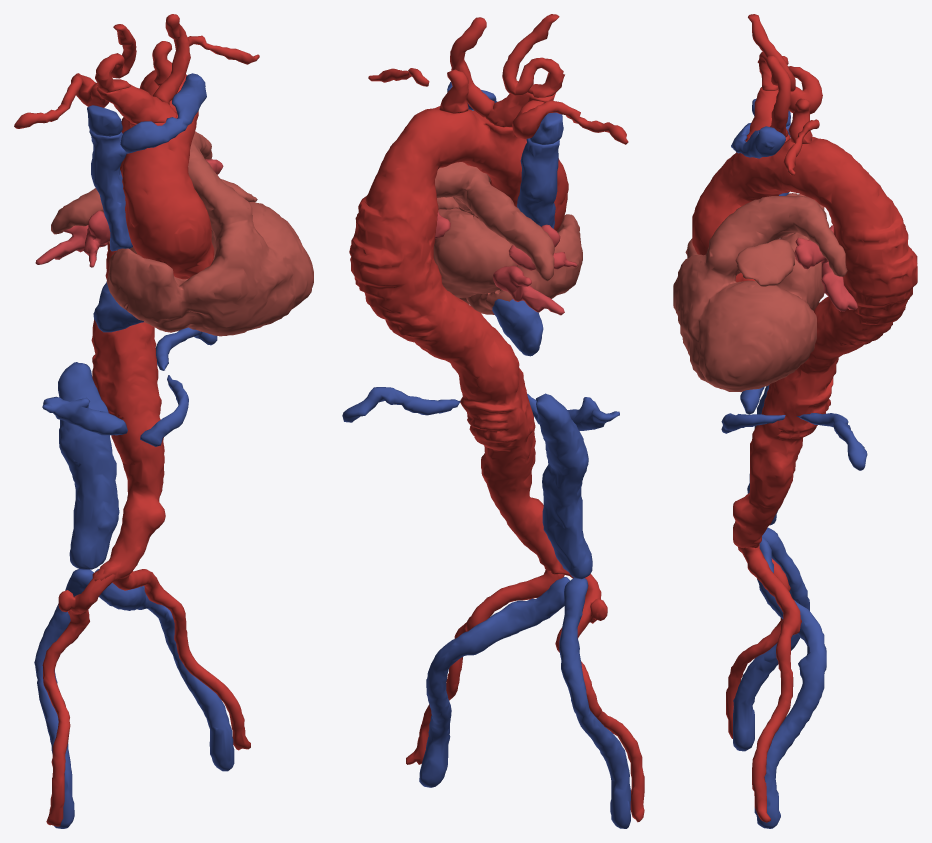
Rendered from tsd_s0196_older_adult_female.cardiovascular.LOD4.glb.
3 views of the same model, side by side, from view 1: azimuth 30°, elevation 25°; view 2: azimuth 150°, elevation 25°; view 3: azimuth 270°, elevation 25° (orthographic). The views are drawn at different scales.
Visible parts, largest first — view 1: TSD_S0196.OLDER_ADULT.FEMALE.CARDIOVASCULAR.AORTA, TSD_S0196.OLDER_ADULT.FEMALE.CARDIOVASCULAR.HEART_ALL_CHAMBE, TSD_S0196.OLDER_ADULT.FEMALE.CARDIOVASCULAR.INFERIOR_VENA_CA, TSD_S0196.OLDER_ADULT.FEMALE.CARDIOVASCULAR.BRACHIOCEPHALIC_ (×3), TSD_S0196.OLDER_ADULT.FEMALE.CARDIOVASCULAR.ILIAC_ARTERY.R, TSD_S0196.OLDER_ADULT.FEMALE.CARDIOVASCULAR.ILIAC_VEIN.L, TSD_S0196.OLDER_ADULT.FEMALE.CARDIOVASCULAR.PORTAL_VEIN_AND_, TSD_S0196.OLDER_ADULT.FEMALE.CARDIOVASCULAR.ILIAC_ARTERY.L, TSD_S0196.OLDER_ADULT.FEMALE.CARDIOVASCULAR.COMMON_CAROTID_A (×2), TSD_S0196.OLDER_ADULT.FEMALE.CARDIOVASCULAR.SUPERIOR_VENA_CA, TSD_S0196.OLDER_ADULT.FEMALE.CARDIOVASCULAR.SUBCLAVIAN_ARTER (×2), TSD_S0196.OLDER_ADULT.FEMALE.CARDIOVASCULAR.ILIAC_VEIN.R (+1 smaller); view 2: TSD_S0196.OLDER_ADULT.FEMALE.CARDIOVASCULAR.AORTA, TSD_S0196.OLDER_ADULT.FEMALE.CARDIOVASCULAR.HEART_ALL_CHAMBE, TSD_S0196.OLDER_ADULT.FEMALE.CARDIOVASCULAR.INFERIOR_VENA_CA, TSD_S0196.OLDER_ADULT.FEMALE.CARDIOVASCULAR.ILIAC_VEIN.L, TSD_S0196.OLDER_ADULT.FEMALE.CARDIOVASCULAR.ILIAC_VEIN.R, TSD_S0196.OLDER_ADULT.FEMALE.CARDIOVASCULAR.COMMON_CAROTID_A (×2), TSD_S0196.OLDER_ADULT.FEMALE.CARDIOVASCULAR.SUBCLAVIAN_ARTER (×2), TSD_S0196.OLDER_ADULT.FEMALE.CARDIOVASCULAR.ILIAC_ARTERY.R, TSD_S0196.OLDER_ADULT.FEMALE.CARDIOVASCULAR.SUPERIOR_VENA_CA, TSD_S0196.OLDER_ADULT.FEMALE.CARDIOVASCULAR.PORTAL_VEIN_AND_, TSD_S0196.OLDER_ADULT.FEMALE.CARDIOVASCULAR.ILIAC_ARTERY.L, TSD_S0196.OLDER_ADULT.FEMALE.CARDIOVASCULAR.PULMONARY_VEINS_ (+1 smaller); view 3: TSD_S0196.OLDER_ADULT.FEMALE.CARDIOVASCULAR.AORTA, TSD_S0196.OLDER_ADULT.FEMALE.CARDIOVASCULAR.HEART_ALL_CHAMBE, TSD_S0196.OLDER_ADULT.FEMALE.CARDIOVASCULAR.ILIAC_VEIN.L, TSD_S0196.OLDER_ADULT.FEMALE.CARDIOVASCULAR.ILIAC_ARTERY.L, TSD_S0196.OLDER_ADULT.FEMALE.CARDIOVASCULAR.ILIAC_VEIN.R, TSD_S0196.OLDER_ADULT.FEMALE.CARDIOVASCULAR.PORTAL_VEIN_AND_, TSD_S0196.OLDER_ADULT.FEMALE.CARDIOVASCULAR.COMMON_CAROTID_A (×2), TSD_S0196.OLDER_ADULT.FEMALE.CARDIOVASCULAR.SUBCLAVIAN_ARTER (×2), TSD_S0196.OLDER_ADULT.FEMALE.CARDIOVASCULAR.BRACHIOCEPHALIC_ (×2), TSD_S0196.OLDER_ADULT.FEMALE.CARDIOVASCULAR.LEFT_ATRIAL_APPE, TSD_S0196.OLDER_ADULT.FEMALE.CARDIOVASCULAR.PULMONARY_VEINS_, TSD_S0196.OLDER_ADULT.FEMALE.CARDIOVASCULAR.ILIAC_ARTERY.R.
Boxes of the visible parts, x1,y1,x2,y2 form: TSD_S0196.OLDER_ADULT.FEMALE.CARDIOVASCULAR.AORTA: [91, 70, 214, 581]; TSD_S0196.OLDER_ADULT.FEMALE.CARDIOVASCULAR.HEART_ALL_CHAMBE: [51, 131, 313, 336]; TSD_S0196.OLDER_ADULT.FEMALE.CARDIOVASCULAR.INFERIOR_VENA_CA: [58, 282, 143, 569]; TSD_S0196.OLDER_ADULT.FEMALE.CARDIOVASCULAR.BRACHIOCEPHALIC_ (×3): [87, 73, 206, 153]; TSD_S0196.OLDER_ADULT.FEMALE.CARDIOVASCULAR.ILIAC_ARTERY.R: [42, 568, 115, 826]; TSD_S0196.OLDER_ADULT.FEMALE.CARDIOVASCULAR.ILIAC_VEIN.L: [95, 569, 234, 771]; TSD_S0196.OLDER_ADULT.FEMALE.CARDIOVASCULAR.PORTAL_VEIN_AND_: [42, 327, 217, 446]; TSD_S0196.OLDER_ADULT.FEMALE.CARDIOVASCULAR.ILIAC_ARTERY.L: [112, 569, 250, 750]; TSD_S0196.OLDER_ADULT.FEMALE.CARDIOVASCULAR.COMMON_CAROTID_A (×2): [95, 14, 190, 104]; TSD_S0196.OLDER_ADULT.FEMALE.CARDIOVASCULAR.SUPERIOR_VENA_CA: [89, 130, 132, 251]; TSD_S0196.OLDER_ADULT.FEMALE.CARDIOVASCULAR.SUBCLAVIAN_ARTER (×2): [14, 35, 259, 128]; TSD_S0196.OLDER_ADULT.FEMALE.CARDIOVASCULAR.ILIAC_VEIN.R: [34, 569, 93, 828]; TSD_S0196.OLDER_ADULT.FEMALE.CARDIOVASCULAR.AORTA: [349, 106, 571, 576]; TSD_S0196.OLDER_ADULT.FEMALE.CARDIOVASCULAR.HEART_ALL_CHAMBE: [433, 162, 582, 314]; TSD_S0196.OLDER_ADULT.FEMALE.CARDIOVASCULAR.INFERIOR_VENA_CA: [492, 299, 592, 579]; TSD_S0196.OLDER_ADULT.FEMALE.CARDIOVASCULAR.ILIAC_VEIN.L: [419, 577, 569, 787]; TSD_S0196.OLDER_ADULT.FEMALE.CARDIOVASCULAR.ILIAC_VEIN.R: [559, 578, 630, 828]; TSD_S0196.OLDER_ADULT.FEMALE.CARDIOVASCULAR.COMMON_CAROTID_A (×2): [450, 14, 564, 117]; TSD_S0196.OLDER_ADULT.FEMALE.CARDIOVASCULAR.SUBCLAVIAN_ARTER (×2): [368, 68, 628, 144]; TSD_S0196.OLDER_ADULT.FEMALE.CARDIOVASCULAR.ILIAC_ARTERY.R: [555, 573, 644, 822]; TSD_S0196.OLDER_ADULT.FEMALE.CARDIOVASCULAR.SUPERIOR_VENA_CA: [517, 138, 559, 228]; TSD_S0196.OLDER_ADULT.FEMALE.CARDIOVASCULAR.PORTAL_VEIN_AND_: [342, 387, 619, 430]; TSD_S0196.OLDER_ADULT.FEMALE.CARDIOVASCULAR.ILIAC_ARTERY.L: [406, 570, 564, 764]; TSD_S0196.OLDER_ADULT.FEMALE.CARDIOVASCULAR.PULMONARY_VEINS_: [435, 211, 577, 315]; TSD_S0196.OLDER_ADULT.FEMALE.CARDIOVASCULAR.AORTA: [692, 134, 917, 548]; TSD_S0196.OLDER_ADULT.FEMALE.CARDIOVASCULAR.HEART_ALL_CHAMBE: [673, 193, 847, 391]; TSD_S0196.OLDER_ADULT.FEMALE.CARDIOVASCULAR.ILIAC_VEIN.L: [754, 537, 826, 828]; TSD_S0196.OLDER_ADULT.FEMALE.CARDIOVASCULAR.ILIAC_ARTERY.L: [738, 544, 801, 822]; TSD_S0196.OLDER_ADULT.FEMALE.CARDIOVASCULAR.ILIAC_VEIN.R: [733, 527, 809, 751]; TSD_S0196.OLDER_ADULT.FEMALE.CARDIOVASCULAR.PORTAL_VEIN_AND_: [721, 386, 867, 470]; TSD_S0196.OLDER_ADULT.FEMALE.CARDIOVASCULAR.COMMON_CAROTID_A (×2): [748, 14, 795, 136]; TSD_S0196.OLDER_ADULT.FEMALE.CARDIOVASCULAR.SUBCLAVIAN_ARTER (×2): [782, 56, 822, 175]; TSD_S0196.OLDER_ADULT.FEMALE.CARDIOVASCULAR.BRACHIOCEPHALIC_ (×2): [731, 87, 788, 158]; TSD_S0196.OLDER_ADULT.FEMALE.CARDIOVASCULAR.LEFT_ATRIAL_APPE: [735, 239, 795, 286]; TSD_S0196.OLDER_ADULT.FEMALE.CARDIOVASCULAR.PULMONARY_VEINS_: [795, 225, 857, 311]; TSD_S0196.OLDER_ADULT.FEMALE.CARDIOVASCULAR.ILIAC_ARTERY.R: [726, 549, 790, 738].
Size of the model in its own units: 0.1903 by 0.5282 by 0.1532.
